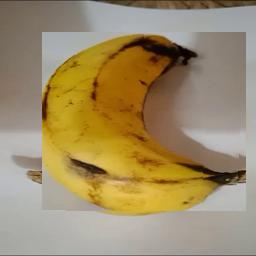Banana Semifresh: (42, 33, 246, 212)
